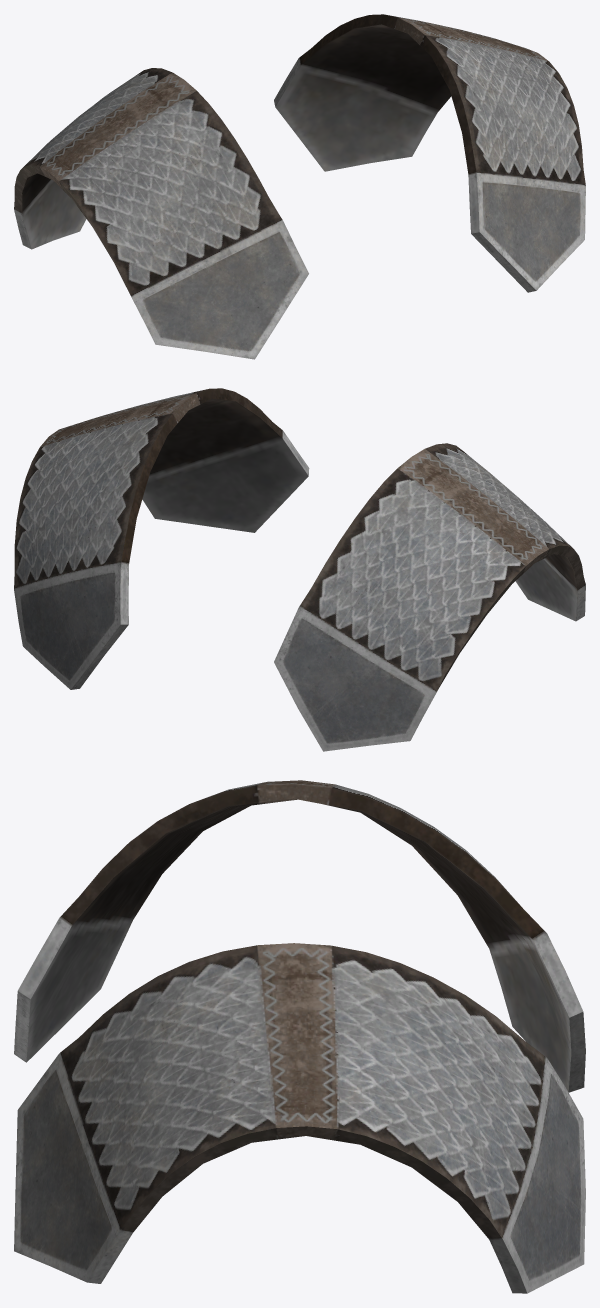
File: sk_dwarf_erebor_pauldron _scale_a.fbx
3 views of the same model, one above another, from view 1: azimuth 30°, elevation 25°; view 2: azimuth 150°, elevation 25°; view 3: azimuth 270°, elevation 25° (orthographic). The views are drawn at different scales.
Parts seen in each view (by area): view 1: sk_dwarf_erebor_pauldron _scale_a; view 2: sk_dwarf_erebor_pauldron _scale_a; view 3: sk_dwarf_erebor_pauldron _scale_a.
Part boxes in pixels (x1=…): sk_dwarf_erebor_pauldron _scale_a: x1=14, y1=14, x2=585, y2=359; sk_dwarf_erebor_pauldron _scale_a: x1=14, y1=388, x2=585, y2=751; sk_dwarf_erebor_pauldron _scale_a: x1=14, y1=780, x2=585, y2=1293.
Size of the model in its own units: 0.5408 by 0.3809 by 0.2313.
1 material, 1 textured.
